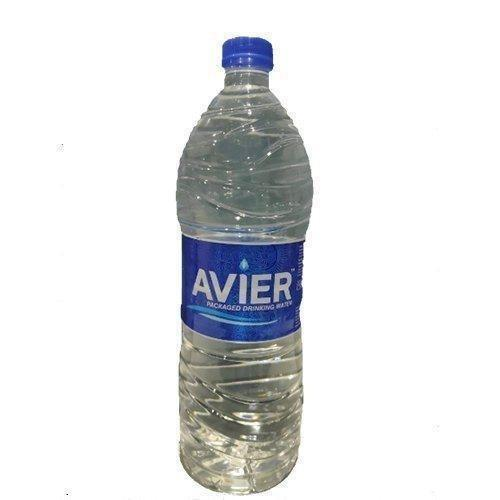bottle-plastic: (173, 33, 317, 498)
